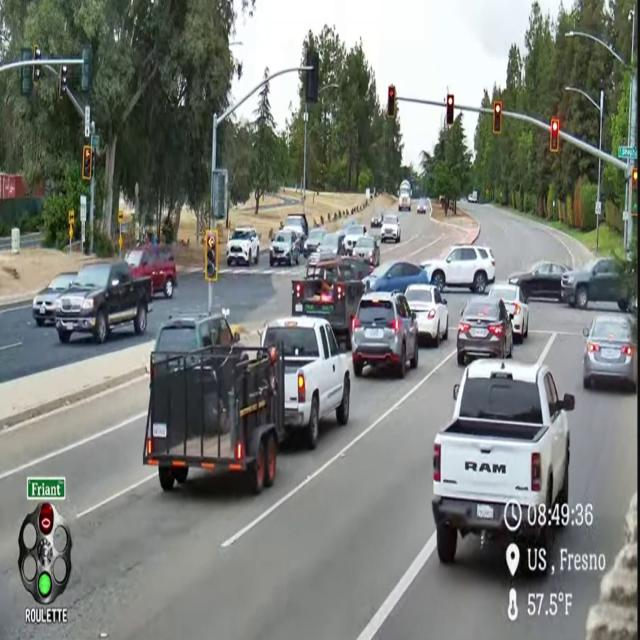car: (351, 293, 418, 377), (583, 314, 636, 391), (457, 298, 513, 366), (561, 257, 630, 311), (421, 245, 495, 293), (154, 313, 239, 354), (125, 244, 177, 298), (405, 285, 448, 345), (32, 272, 76, 327), (489, 284, 529, 343), (509, 261, 569, 300), (365, 260, 430, 292), (226, 227, 259, 265), (308, 230, 344, 263), (270, 230, 299, 266), (352, 235, 380, 272), (342, 256, 373, 280), (303, 228, 327, 257), (344, 224, 366, 255), (283, 213, 309, 239), (380, 214, 400, 243), (284, 227, 304, 255), (342, 216, 361, 231), (371, 212, 382, 228), (417, 199, 427, 214)
traffic signal: (306, 49, 320, 103), (205, 230, 218, 281), (80, 46, 92, 92), (82, 145, 92, 181), (21, 66, 32, 96), (493, 101, 502, 135), (550, 119, 559, 152), (387, 85, 396, 118), (59, 65, 67, 98), (446, 95, 454, 126), (32, 65, 40, 82), (632, 168, 637, 189)
truck: (432, 360, 574, 563), (143, 345, 284, 494), (261, 316, 352, 449), (55, 261, 152, 343), (292, 258, 365, 350), (398, 180, 411, 211), (467, 190, 478, 204)
